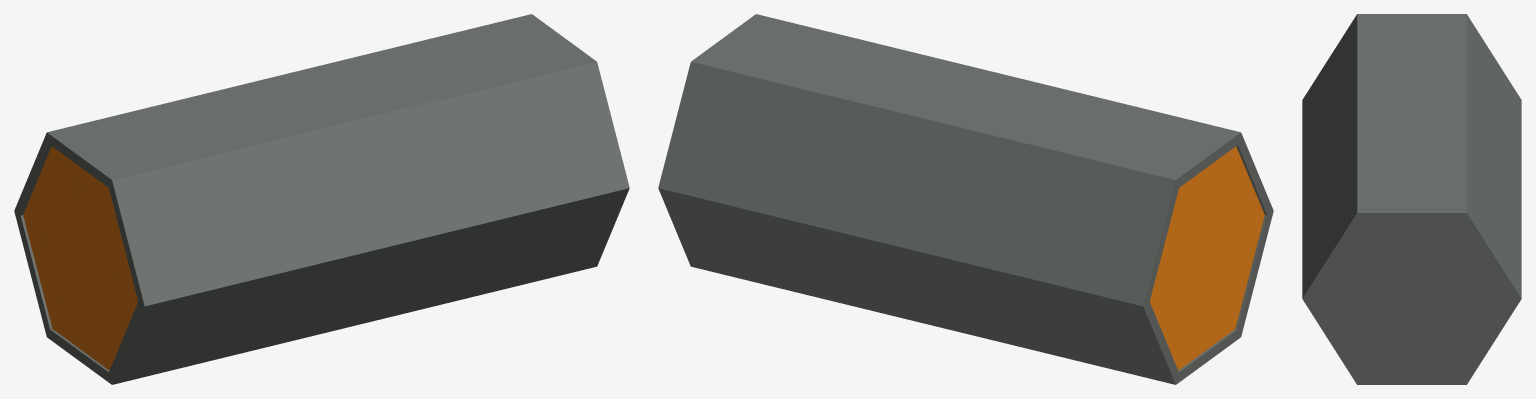
Rendered from Cage.fbx.
The picture shows the model from 3 angles, left to right: view 1: azimuth 30°, elevation 25°; view 2: azimuth 150°, elevation 25°; view 3: azimuth 270°, elevation 25°; orthographic projection. The views are drawn at different scales.
Parts seen in each view (by area): view 1: Cylinder, Door; view 2: Cylinder, Door; view 3: Cylinder.
Boxes of the visible parts, x1,y1,x2,y2 form: Cylinder: [14, 14, 629, 384]; Door: [23, 146, 138, 370]; Cylinder: [658, 14, 1273, 384]; Door: [1149, 146, 1264, 370]; Cylinder: [1302, 14, 1521, 384].
Bounding box in the file's own units: 654 × 264 × 305.
Materials: 2 (1 with a texture image).
